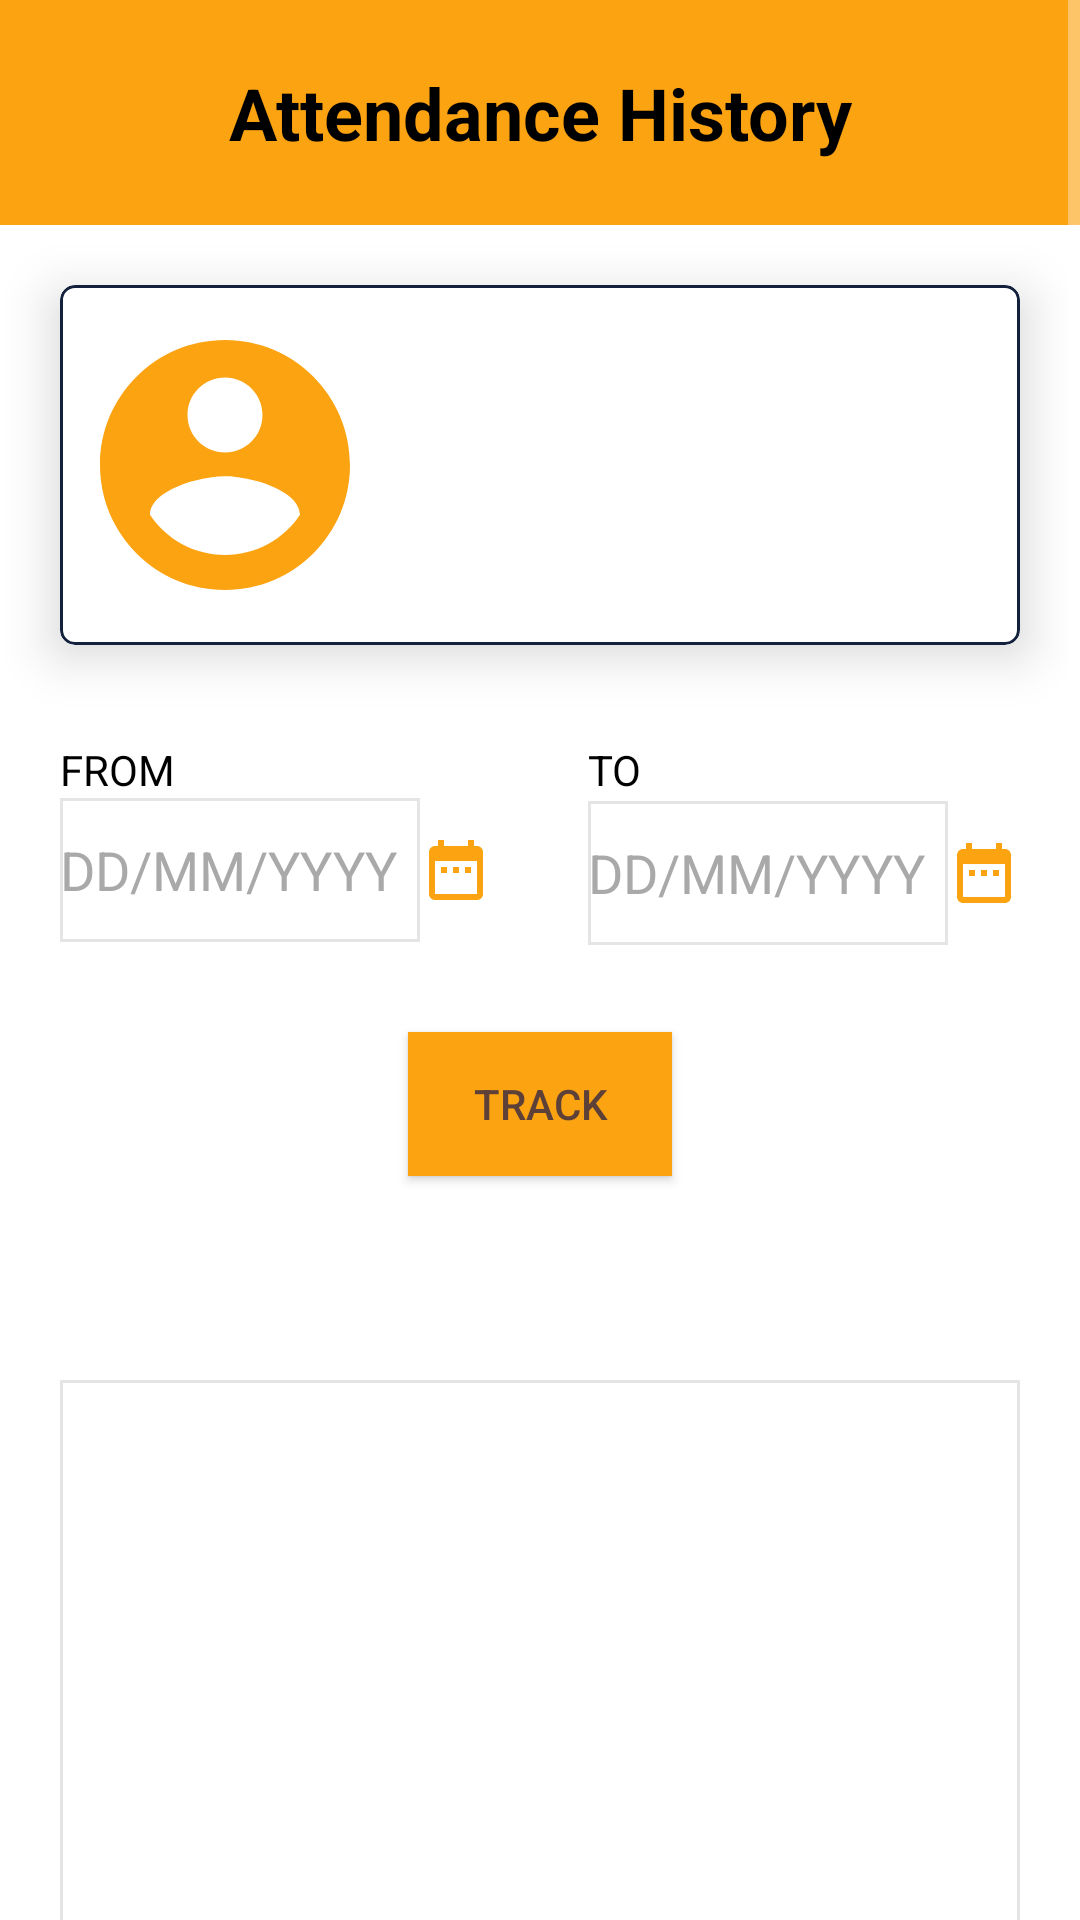

Icons on this 1080 × 1920 Android screen, each with the point to tap as point (x, y):
account circle setting: point (225, 465)
date range: point (456, 870), point (984, 873)
